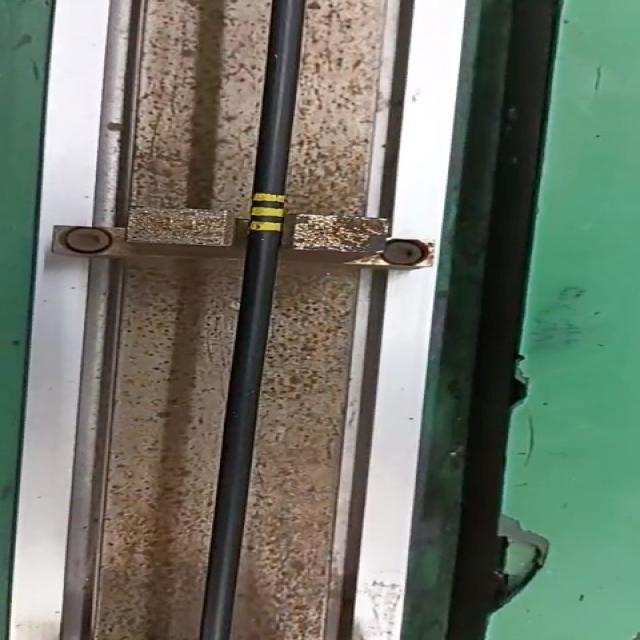yellow: (251, 193, 279, 232)
